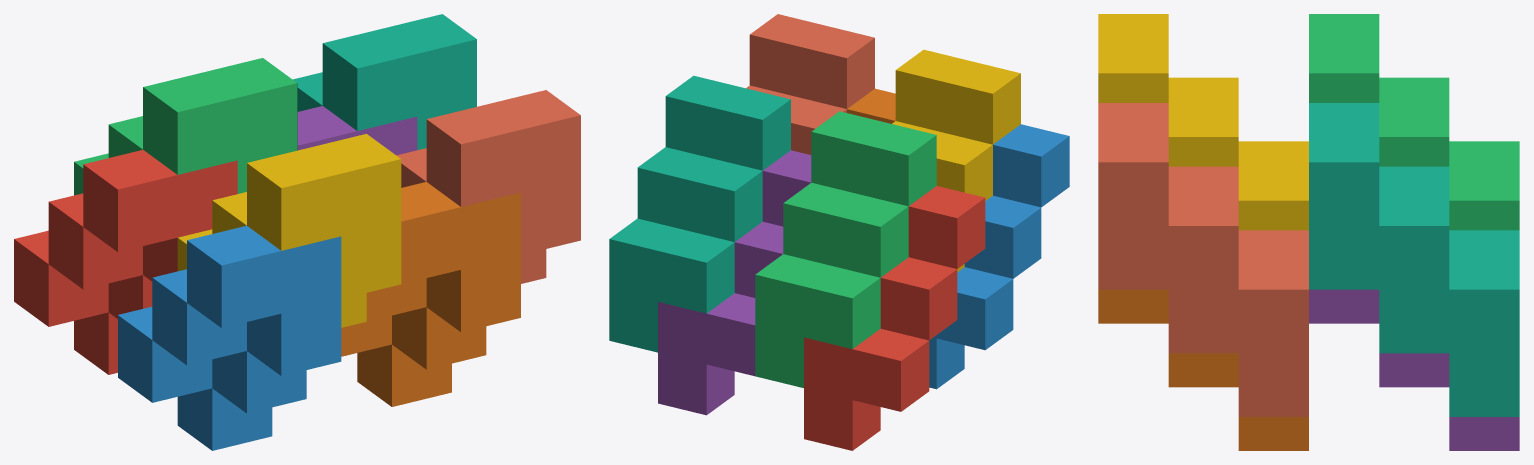
Rendered from tiling.obj.
The picture shows the model from 3 angles, left to right: view 1: azimuth 30°, elevation 25°; view 2: azimuth 150°, elevation 25°; view 3: azimuth 270°, elevation 25°; orthographic projection. The views are drawn at different scales.
Visible parts, largest first — view 1: copy_1_domain_2, copy_1_domain_1, copy_1_domain_6, copy_1_domain_4, copy_1_domain_8, copy_1_domain_3, copy_1_domain_7, copy_1_domain_5; view 2: copy_1_domain_7, copy_1_domain_3, copy_1_domain_1, copy_1_domain_2, copy_1_domain_5, copy_1_domain_4, copy_1_domain_8, copy_1_domain_6; view 3: copy_1_domain_7, copy_1_domain_8, copy_1_domain_3, copy_1_domain_4, copy_1_domain_6, copy_1_domain_5.
Part boxes in pixels (box(x1,y1,x2,y2)): copy_1_domain_2: box(118, 225, 341, 450); copy_1_domain_1: box(14, 150, 237, 374); copy_1_domain_6: box(341, 182, 520, 406); copy_1_domain_4: box(177, 134, 401, 327); copy_1_domain_8: box(396, 90, 580, 283); copy_1_domain_3: box(74, 58, 297, 195); copy_1_domain_7: box(293, 14, 476, 150); copy_1_domain_5: box(297, 106, 417, 155); copy_1_domain_7: box(609, 75, 790, 352); copy_1_domain_3: box(755, 111, 936, 387); copy_1_domain_1: box(804, 186, 985, 450); copy_1_domain_2: box(929, 124, 1069, 389); copy_1_domain_5: box(658, 150, 811, 415); copy_1_domain_4: box(892, 49, 1020, 271); copy_1_domain_8: box(746, 14, 874, 154); copy_1_domain_6: box(847, 88, 895, 123); copy_1_domain_7: box(1309, 103, 1519, 416); copy_1_domain_8: box(1098, 103, 1308, 416); copy_1_domain_3: box(1309, 14, 1519, 230); copy_1_domain_4: box(1098, 14, 1308, 230); copy_1_domain_6: box(1098, 289, 1308, 450); copy_1_domain_5: box(1309, 289, 1519, 450).
Size of the model in its own units: 6 by 5 by 6.
